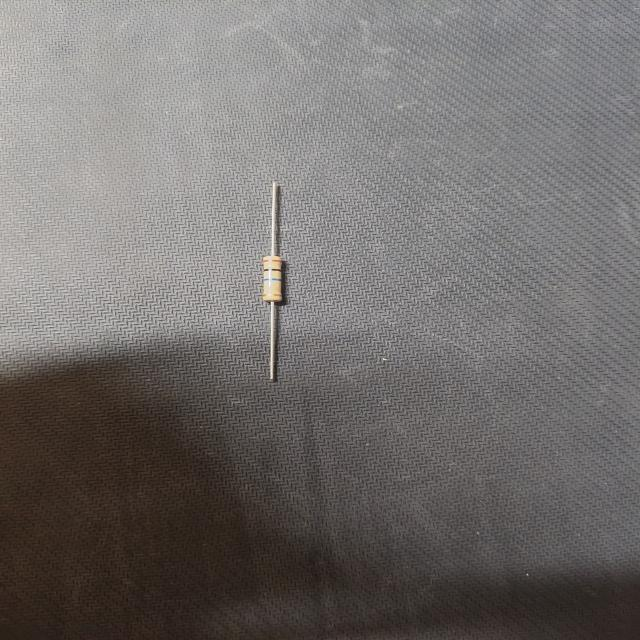resistor: (244, 170, 311, 388)
